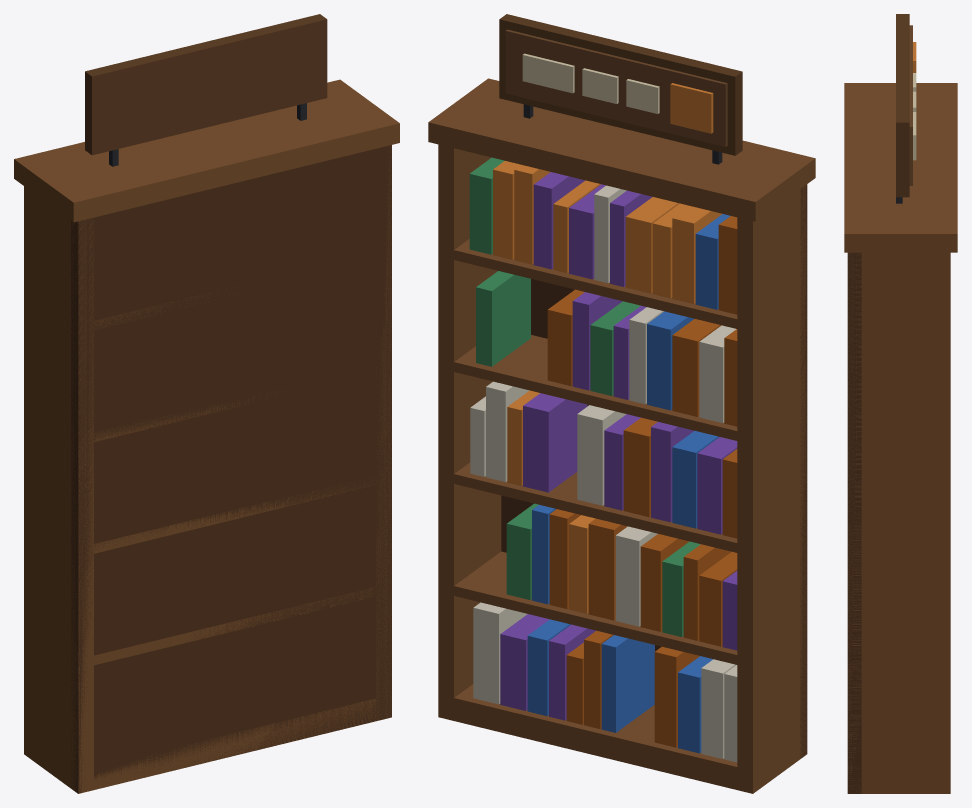
The model's file is tv-shelf-khoa-hoc.glb.
3 renders of one model, left to right at view 1: azimuth 30°, elevation 25°; view 2: azimuth 150°, elevation 25°; view 3: azimuth 270°, elevation 25°, orthographic. The views are drawn at different scales.
Parts seen in each view (by area): view 1: box-prop; view 2: box-prop; view 3: box-prop.
Part boxes in pixels (box(x1,y1,x2,y2)): box-prop: box(14, 14, 399, 793); box-prop: box(428, 14, 815, 793); box-prop: box(844, 14, 957, 793).
Bounding box in the file's own units: 2.08 × 4.2 × 0.66.
